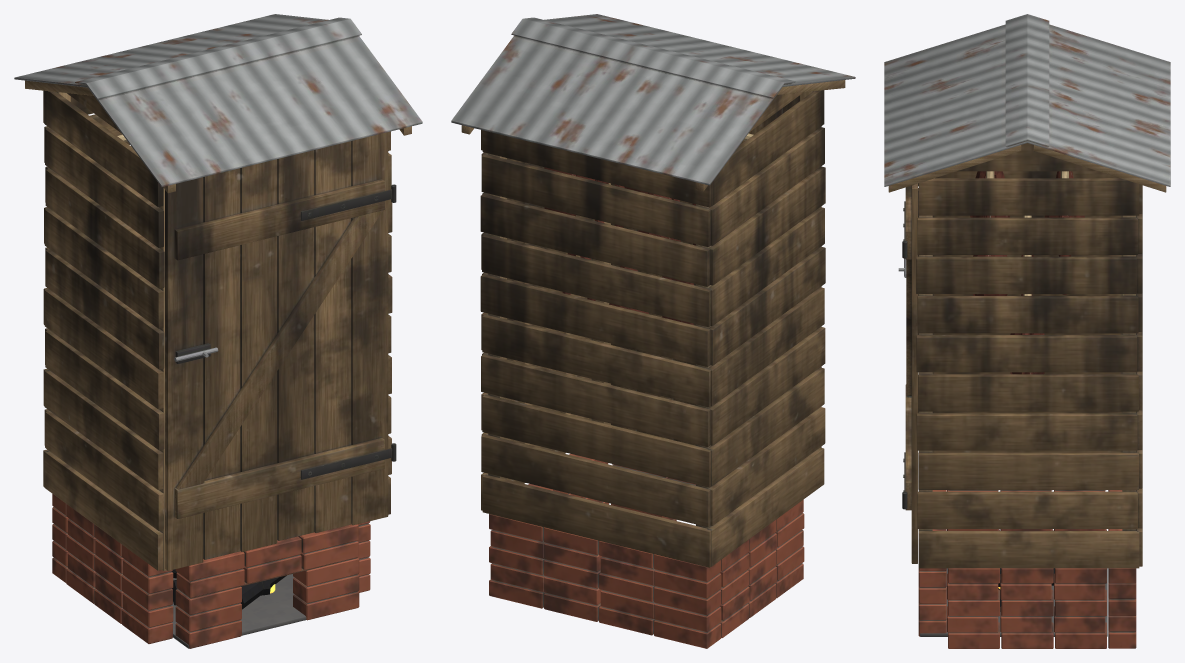
File: defumador.glb
The picture shows the model from 3 angles, left to right: view 1: azimuth 30°, elevation 25°; view 2: azimuth 150°, elevation 25°; view 3: azimuth 270°, elevation 25°; orthographic projection. The views are drawn at different scales.
Visible parts, largest first — view 1: porta, caixa, telhado, base, fogo; view 2: caixa, telhado, base, porta, dentro; view 3: caixa, telhado, base, porta, dentro, fogo.
Part boxes in pixels (left/top/right/bottom): porta: left=165, top=132, right=396, bottom=570; caixa: left=43, top=90, right=392, bottom=570; telhado: left=14, top=14, right=422, bottom=193; base: left=52, top=494, right=370, bottom=648; fogo: left=171, top=569, right=306, bottom=648; caixa: left=480, top=90, right=825, bottom=567; telhado: left=451, top=14, right=855, bottom=191; base: left=489, top=453, right=804, bottom=648; porta: left=611, top=95, right=821, bottom=447; dentro: left=544, top=133, right=753, bottom=324; caixa: left=916, top=143, right=1142, bottom=568; telhado: left=884, top=14, right=1170, bottom=192; base: left=918, top=490, right=1136, bottom=648; porta: left=898, top=183, right=917, bottom=563; dentro: left=970, top=171, right=1084, bottom=374; fogo: left=920, top=568, right=1107, bottom=636.
Size of the model in its own units: 0.952 by 1.85 by 0.92.
4 materials, 3 textured.
